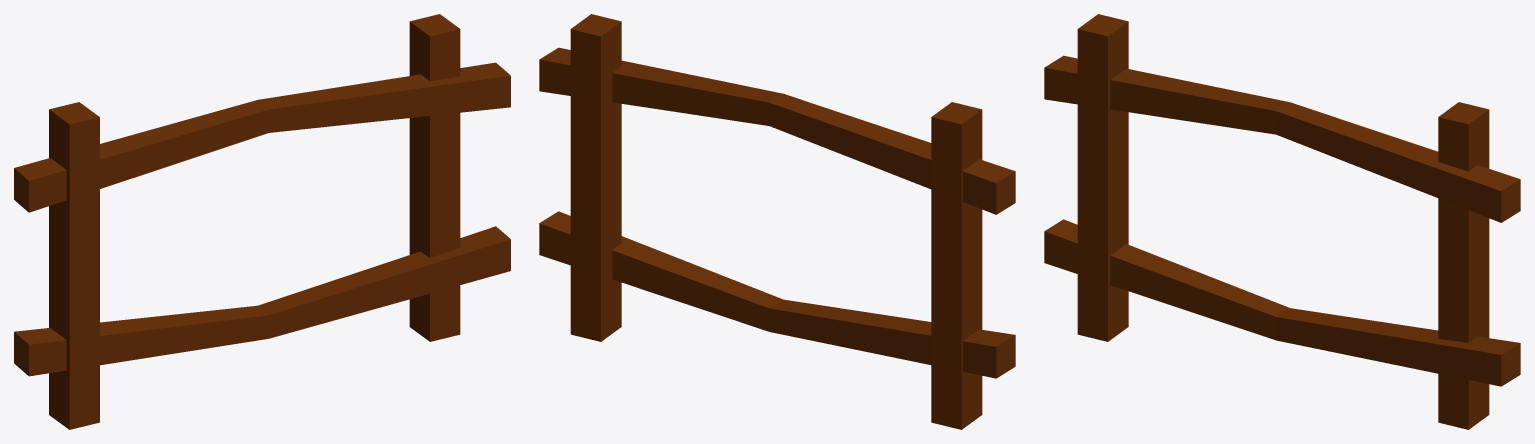
Rendered from fence.fbx.
3 views of the same model, side by side, from view 1: azimuth 30°, elevation 25°; view 2: azimuth 150°, elevation 25°; view 3: azimuth 330°, elevation 25° (orthographic).
Visible parts, largest first — view 1: Cube.002, Cube, Cube.003; view 2: Cube.002, Cube.003, Cube; view 3: Cube.002, Cube, Cube.003.
Part boxes in pixels (left/top/right/bottom): Cube.002: left=14, top=62, right=510, bottom=376; Cube: left=49, top=102, right=99, bottom=429; Cube.003: left=409, top=14, right=460, bottom=341; Cube.002: left=539, top=47, right=1015, bottom=378; Cube.003: left=570, top=14, right=621, bottom=341; Cube: left=931, top=102, right=982, bottom=429; Cube.002: left=1044, top=55, right=1520, bottom=386; Cube: left=1077, top=14, right=1128, bottom=341; Cube.003: left=1438, top=102, right=1489, bottom=429.
Size of the model in its own units: 866 by 536 by 93.94.
